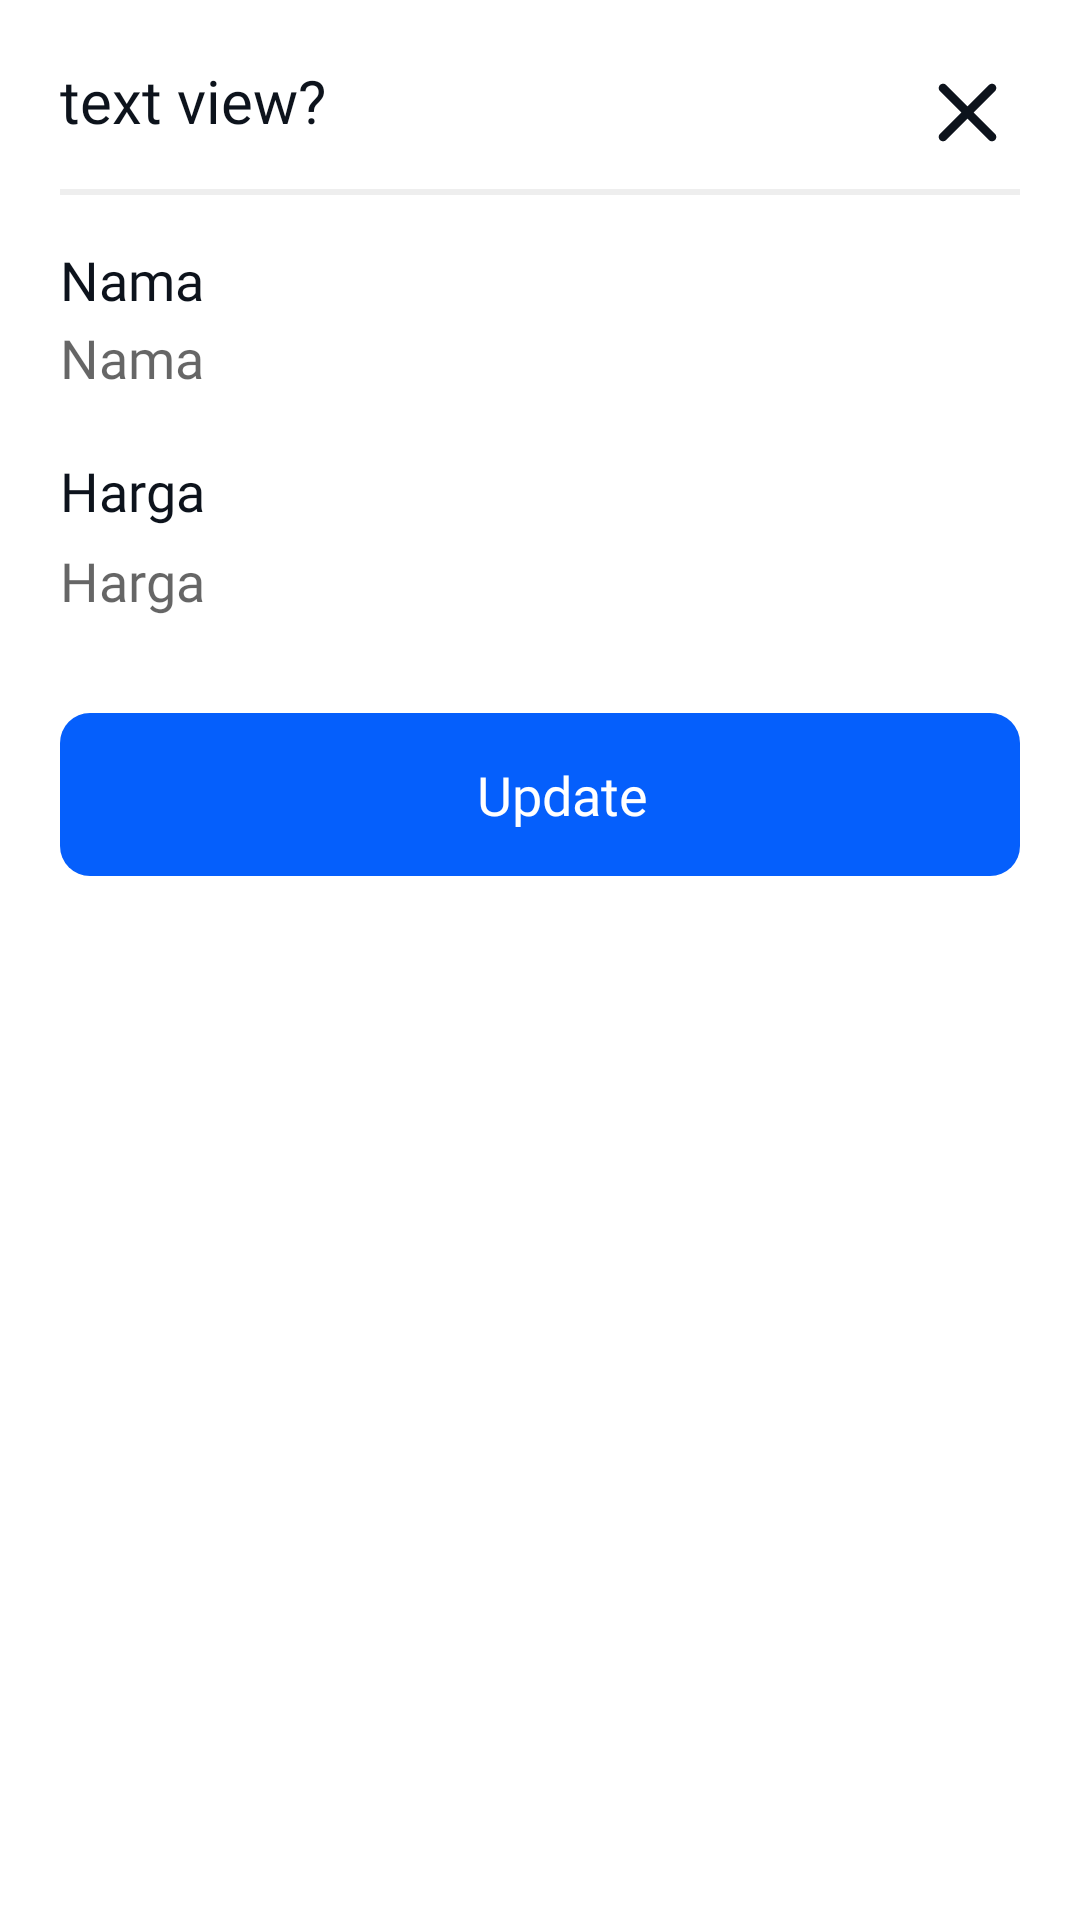

Icons on this 1080 × 1920 Android screen, each with its box as (x1, y1, x2, y2):
close: (938, 83, 997, 142)
